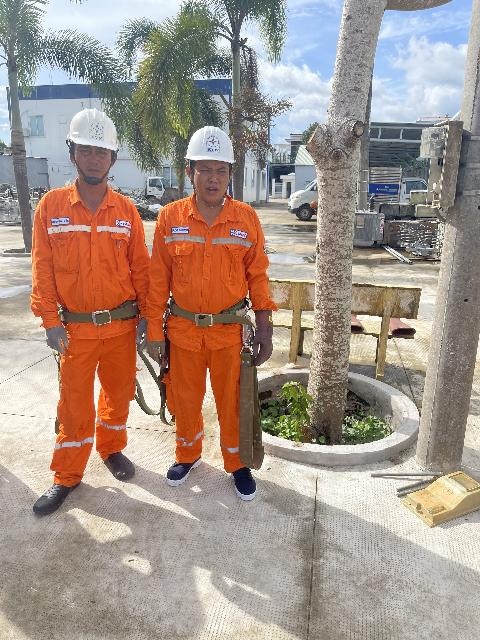gloves: (245, 306, 297, 368), (34, 318, 79, 356), (143, 333, 174, 370), (134, 316, 151, 352)
harness: (160, 286, 263, 330), (37, 295, 148, 327)
helmet: (57, 102, 129, 156), (183, 118, 244, 168)
shoes: (21, 461, 84, 520), (153, 441, 216, 491), (221, 456, 272, 506), (90, 442, 148, 485)
